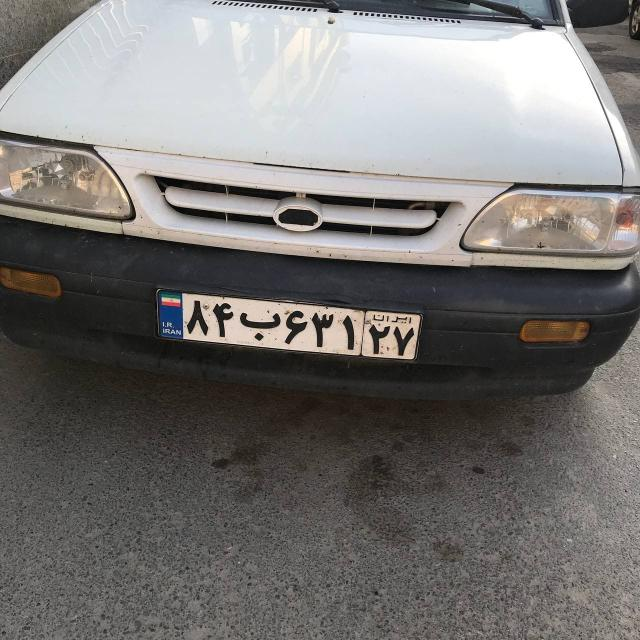Plates: (154, 290, 421, 362)
